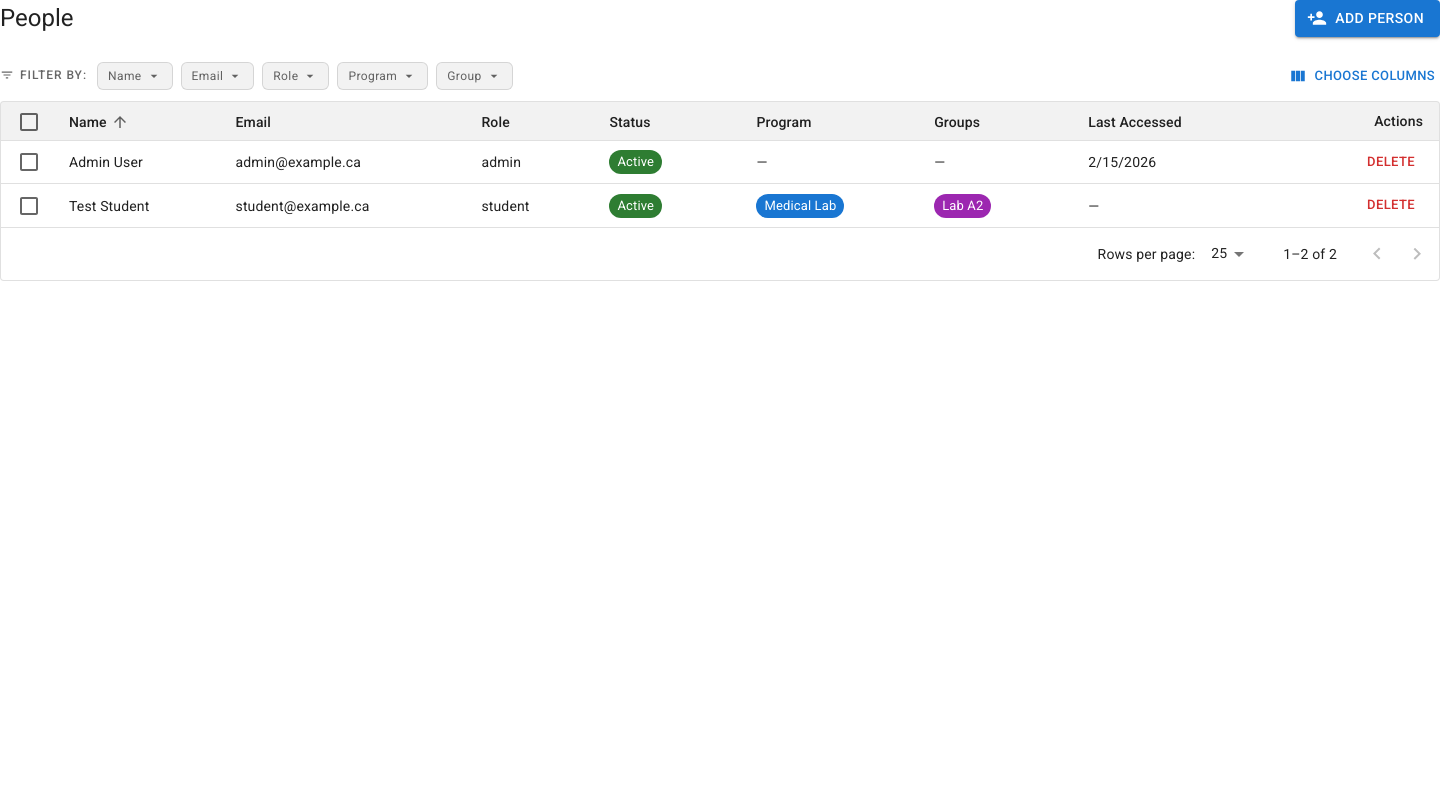
Test case: PeoplePage › opens add modal when Add Person is clicked
Expected: the text "Admin User" is shown, [69,152,143,172]
What coordinates should you click on to do the following:
click the button "Add Person"
I would click on:
 (1368, 18)
Its box is [1295,0,1439,36].
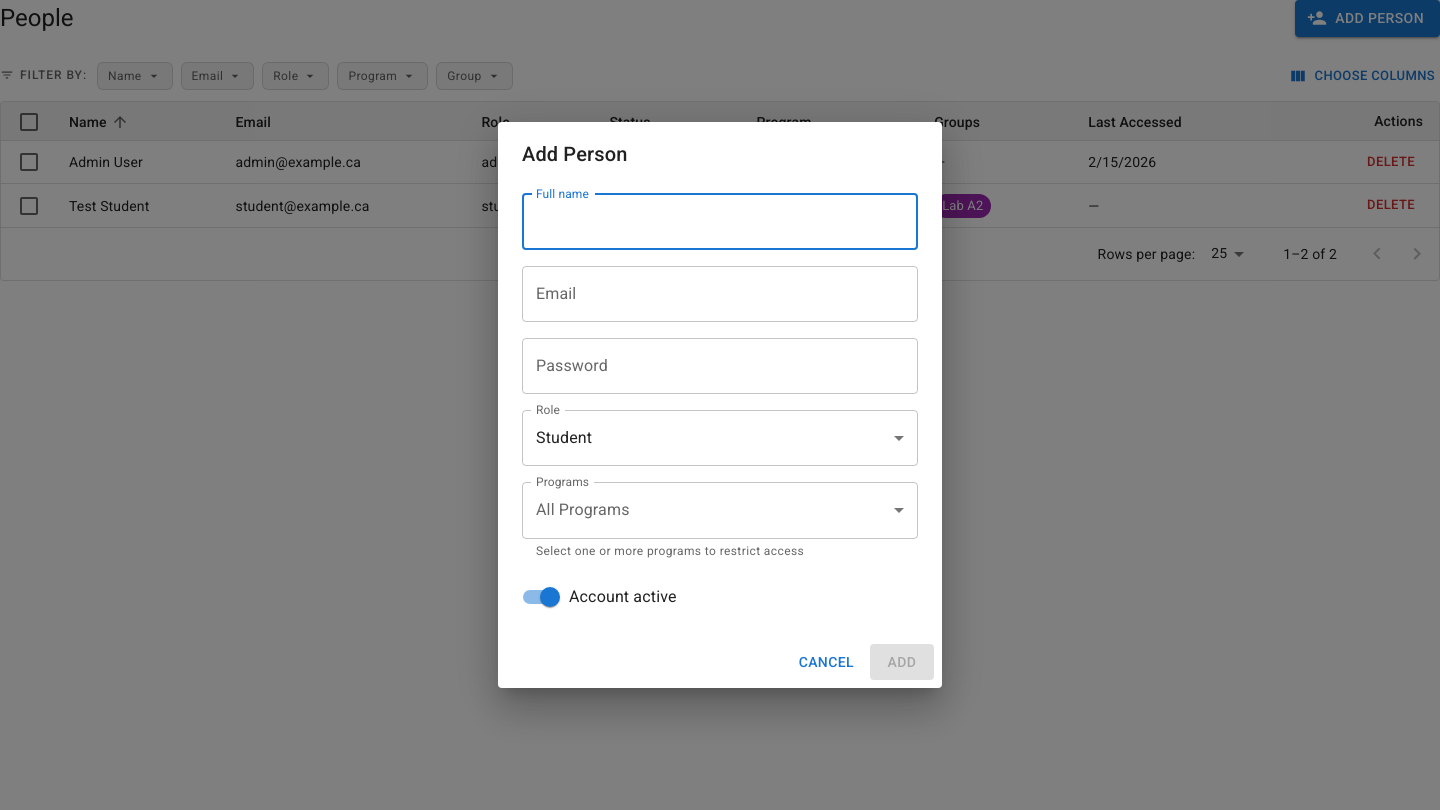
Expected: the heading "Add Person" is shown, [522,142,628,166]
